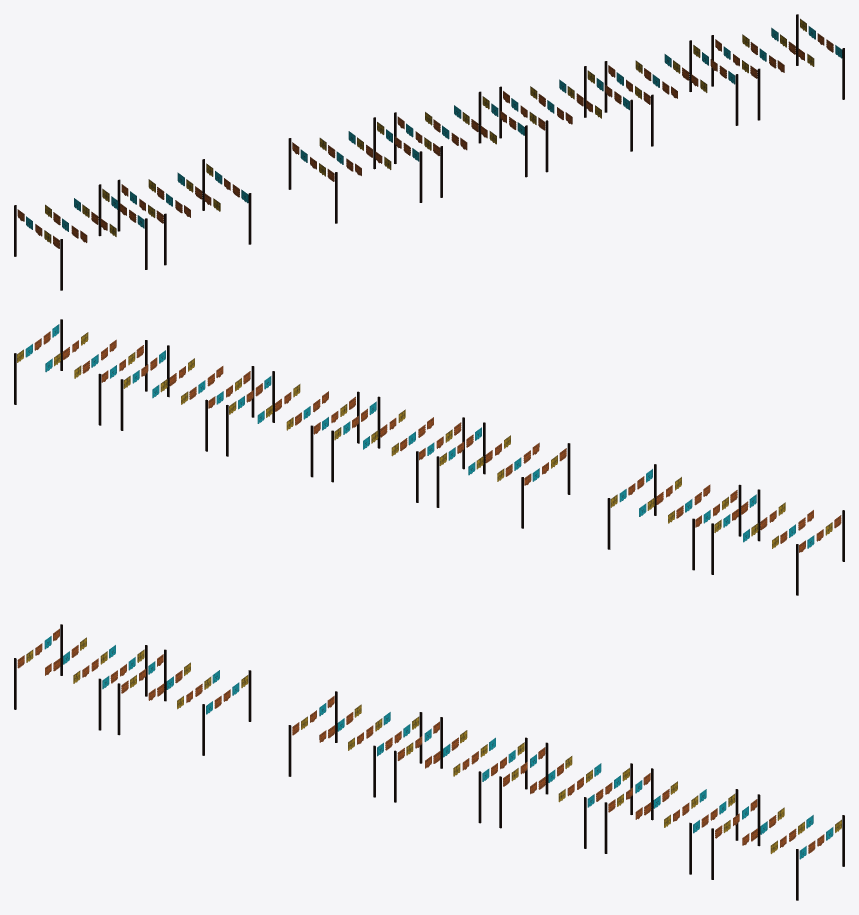
Rendered from pasillo1.obj.
3 renders of one model, top to bottom at view 1: azimuth 30°, elevation 25°; view 2: azimuth 150°, elevation 25°; view 3: azimuth 330°, elevation 25°, orthographic.
Bounding box in the file's own units: 8.32 × 0.5168 × 0.8675.
